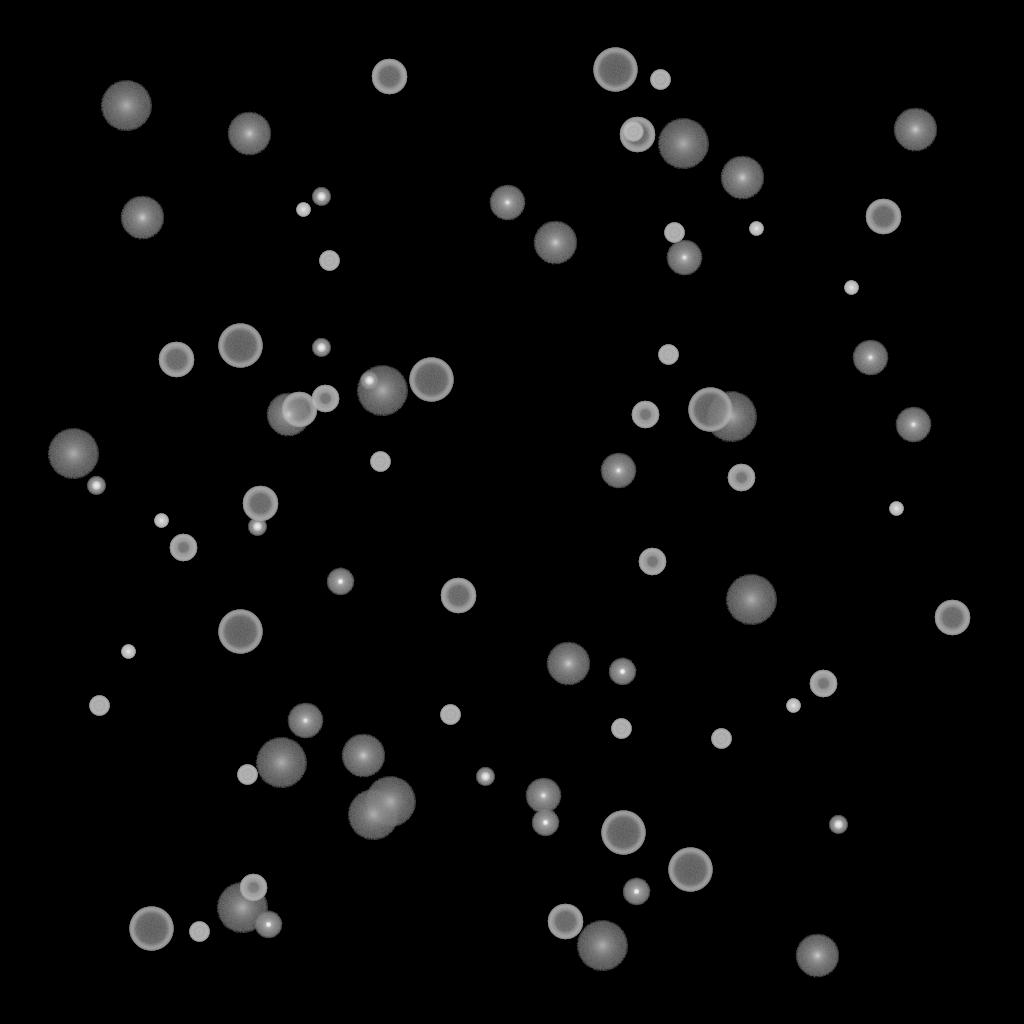depth:-10: (608, 658, 636, 686), (622, 878, 650, 906), (326, 568, 354, 596), (531, 809, 559, 837), (254, 911, 282, 939)
depth:-20: (829, 816, 847, 834), (312, 188, 330, 206), (476, 768, 494, 786), (312, 339, 330, 357), (87, 477, 105, 495), (360, 372, 378, 390), (248, 518, 266, 536)
depth:-30: (889, 502, 903, 516), (786, 699, 800, 713), (749, 222, 763, 236), (121, 645, 135, 659), (154, 514, 168, 528), (296, 203, 310, 217), (844, 281, 858, 295)
depth:-40: (370, 452, 390, 472), (611, 719, 631, 739), (711, 729, 731, 749), (664, 223, 684, 243), (89, 696, 109, 716), (650, 70, 670, 90), (319, 251, 339, 271), (237, 765, 257, 785), (189, 922, 209, 942), (440, 705, 460, 725), (623, 122, 643, 142), (658, 345, 678, 365)
depth:-50: (311, 385, 339, 413), (638, 548, 666, 576), (631, 401, 659, 429), (239, 874, 267, 902), (809, 670, 837, 698), (169, 534, 197, 562), (727, 464, 755, 492)
depth:-60: (934, 600, 970, 636), (158, 342, 194, 378), (547, 904, 583, 940), (281, 392, 317, 428), (242, 486, 278, 522), (371, 59, 407, 95), (440, 578, 476, 614), (619, 117, 655, 153), (865, 199, 901, 235)
depth:-70: (409, 358, 453, 402), (218, 610, 262, 654), (688, 388, 732, 432), (129, 907, 173, 951), (218, 324, 262, 368), (601, 811, 645, 855), (668, 848, 712, 892), (593, 48, 637, 92)
depth:0: (489, 185, 525, 221), (895, 407, 931, 443), (852, 340, 888, 376), (666, 240, 702, 276), (525, 778, 561, 814), (600, 453, 636, 489), (287, 703, 323, 739)
depth:10: (266, 393, 310, 437), (795, 934, 839, 978), (720, 156, 764, 200), (546, 642, 590, 686), (893, 108, 937, 152), (533, 221, 577, 265), (341, 734, 385, 778), (120, 196, 164, 240), (227, 112, 271, 156)
depth:20: (725, 575, 777, 625), (657, 119, 709, 169), (705, 392, 757, 442), (347, 790, 399, 840), (356, 366, 408, 416), (100, 81, 152, 131), (47, 429, 99, 479), (576, 921, 628, 971), (216, 883, 268, 933), (364, 777, 416, 827), (255, 738, 307, 788)
